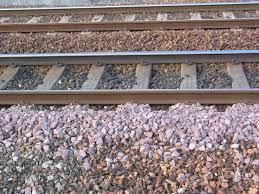track: (0, 52, 259, 104), (0, 8, 259, 29)
